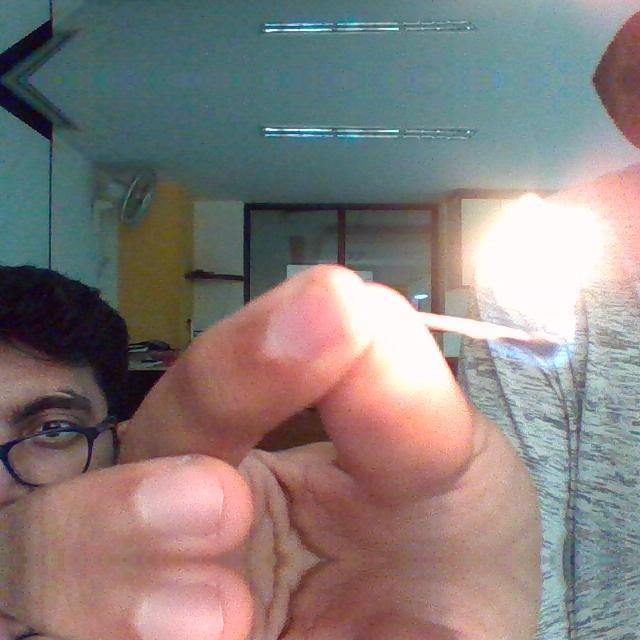smoke: (476, 187, 598, 373)
